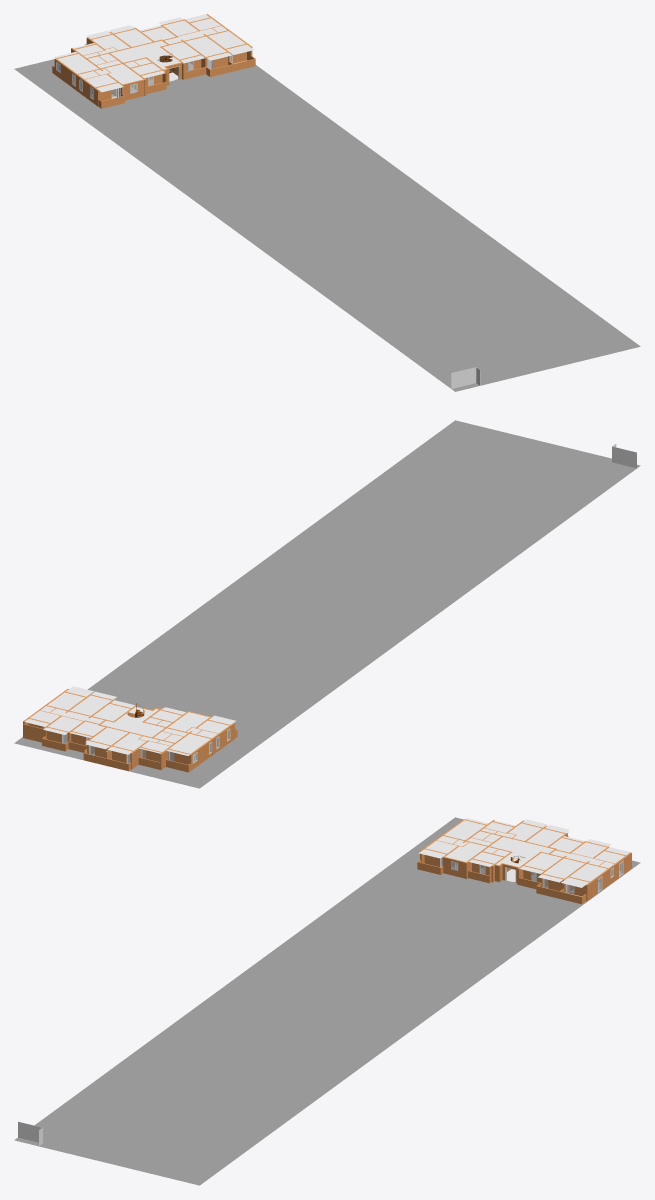
File: Building 1.obj
3 views of the same model, one above another, from view 1: azimuth 30°, elevation 25°; view 2: azimuth 150°, elevation 25°; view 3: azimuth 330°, elevation 25° (orthographic).
Parts seen in each view (by area): view 1: ground_1, room_432_641, room_434_645, wall_3_17; view 2: ground_1, room_432_641, room_434_645, wall_3_17; view 3: ground_1, room_432_641, room_434_645.
Part boxes in pixels (x1,y1,x2,y2): ground_1: [14, 59, 640, 391]; room_432_641: [110, 40, 180, 69]; room_434_645: [78, 64, 143, 84]; wall_3_17: [54, 59, 98, 106]; ground_1: [14, 420, 640, 788]; room_432_641: [100, 707, 164, 737]; room_434_645: [168, 712, 217, 738]; wall_3_17: [191, 723, 234, 770]; ground_1: [14, 817, 640, 1185]; room_432_641: [490, 837, 553, 867]; room_434_645: [437, 836, 486, 861].
Bounding box in the file's own units: 2979 × 362 × 12265.
